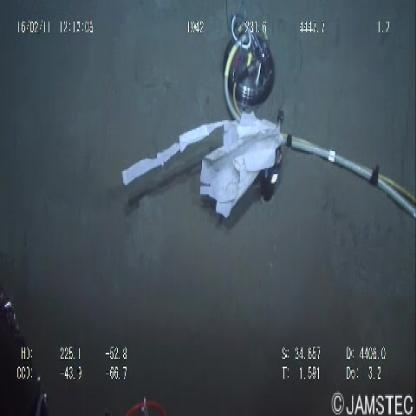Rov: (220, 2, 277, 114)
Rác: (119, 112, 288, 218)
